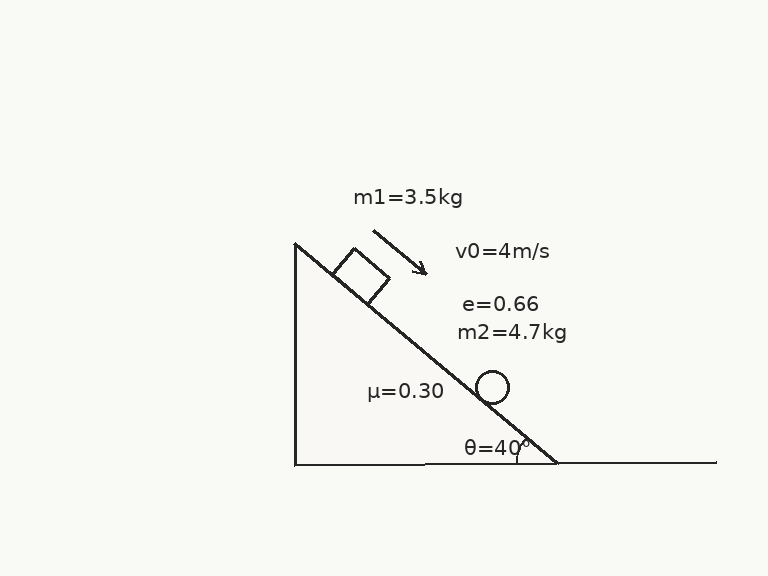ball: (473, 368, 511, 406)
block: (330, 246, 391, 306)
ramp: (293, 241, 559, 465)
